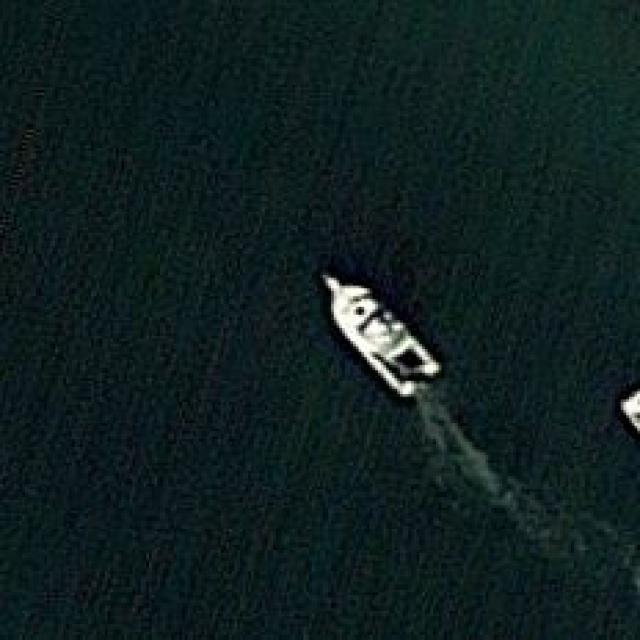boat: (317, 269, 439, 396)
